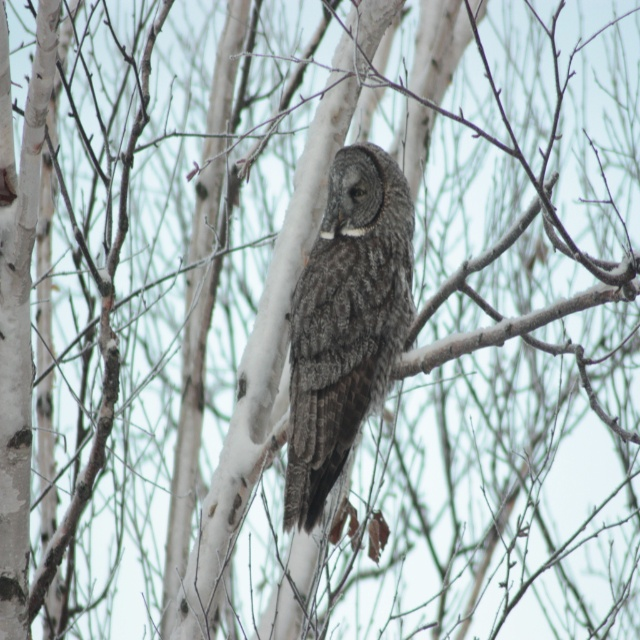Owl: (282, 142, 417, 540)
